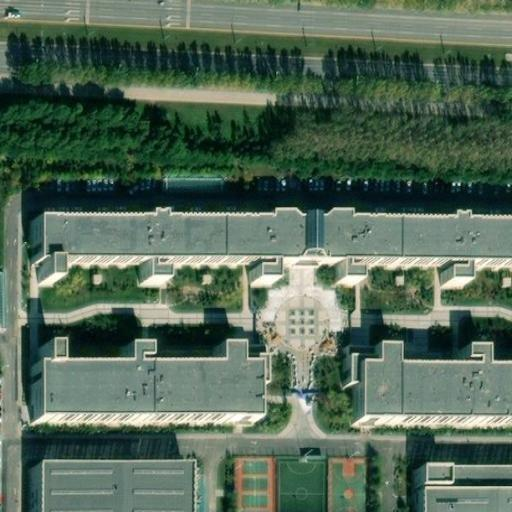building: (31, 217, 512, 287), (31, 343, 258, 418), (342, 345, 512, 422), (44, 460, 193, 512), (412, 467, 511, 512), (158, 174, 224, 193)
